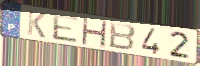2: (168, 31, 192, 61)
4: (141, 27, 162, 56)
B: (108, 21, 137, 52)
E: (52, 13, 80, 45)
H: (80, 17, 109, 49)
K: (26, 9, 48, 40)
